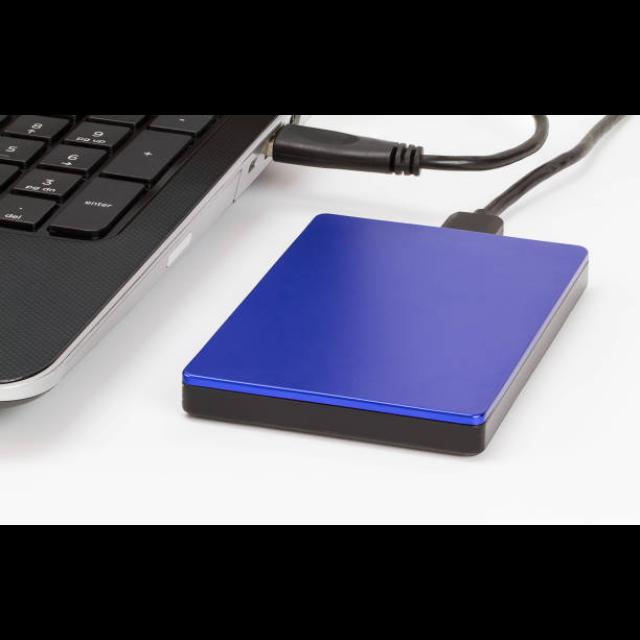HDD: (181, 214, 591, 459)
